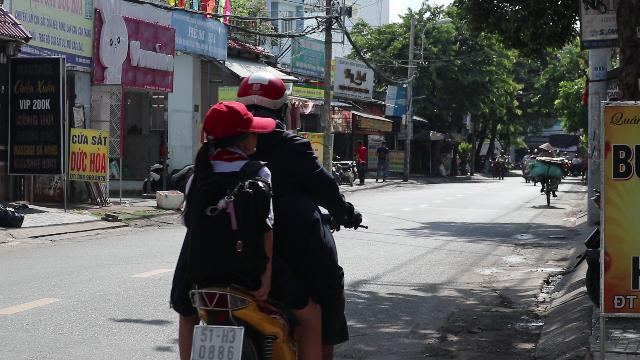helmet: (232, 72, 290, 120)
licenseplate: (192, 326, 242, 358)
motorcyclist: (163, 70, 357, 358)
nohelmet: (198, 101, 276, 163)
